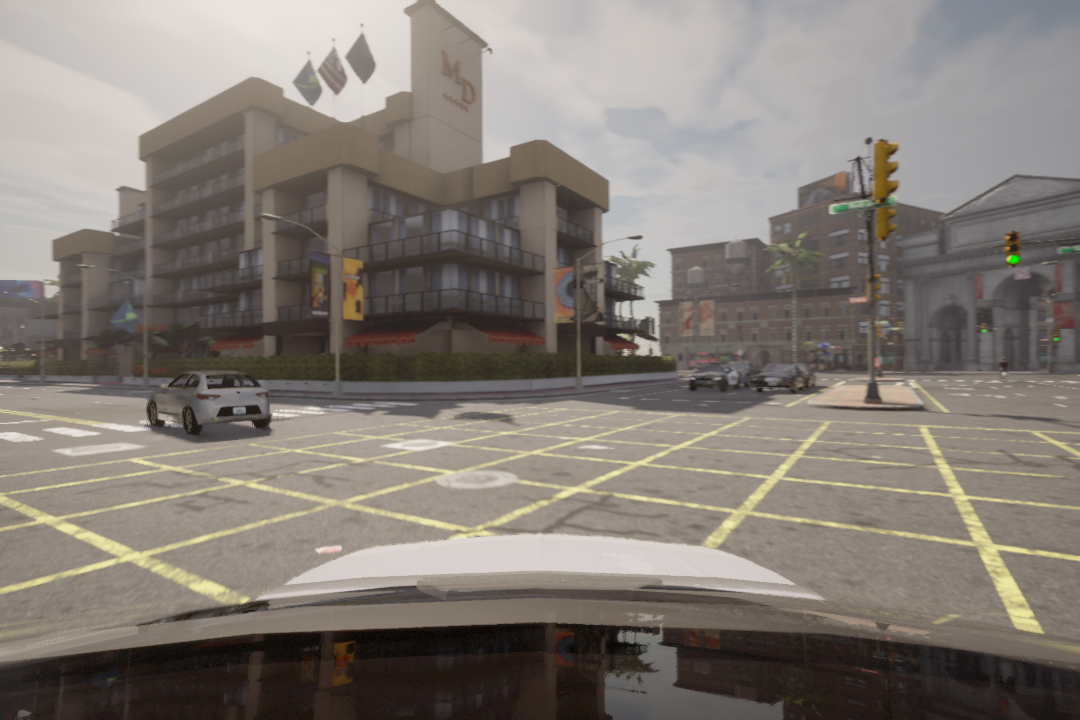TrafficLight: (1004, 230, 1024, 269)
